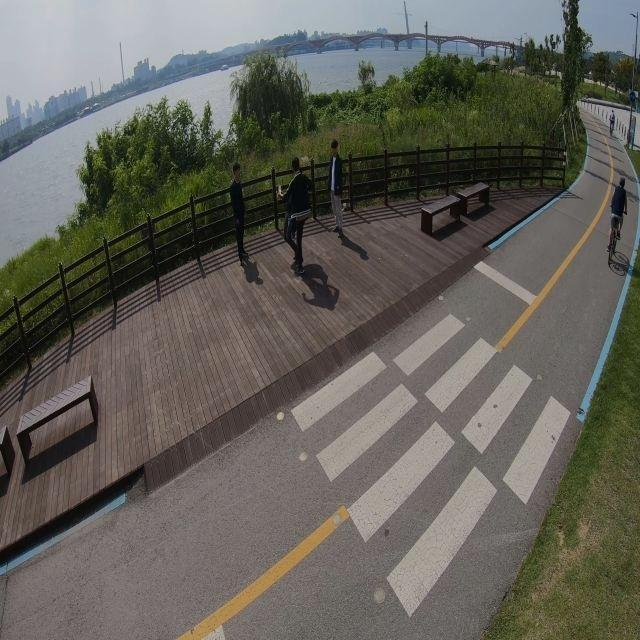non-fight: (280, 158, 316, 273), (327, 138, 350, 238), (229, 162, 250, 264)
